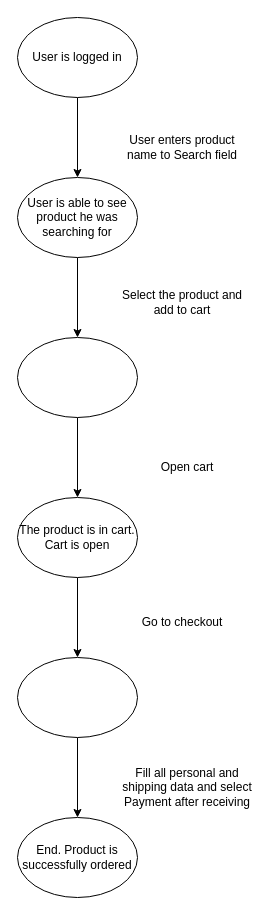
The diagram is 275 pixels wide and 915 high, and some of its shapes have lost their labels. Here are the shapes that lost their labels. From the top down, the box of each, then its label:
(16, 336, 138, 418): Product is added to cart
(16, 656, 138, 738): User is on checkout page
